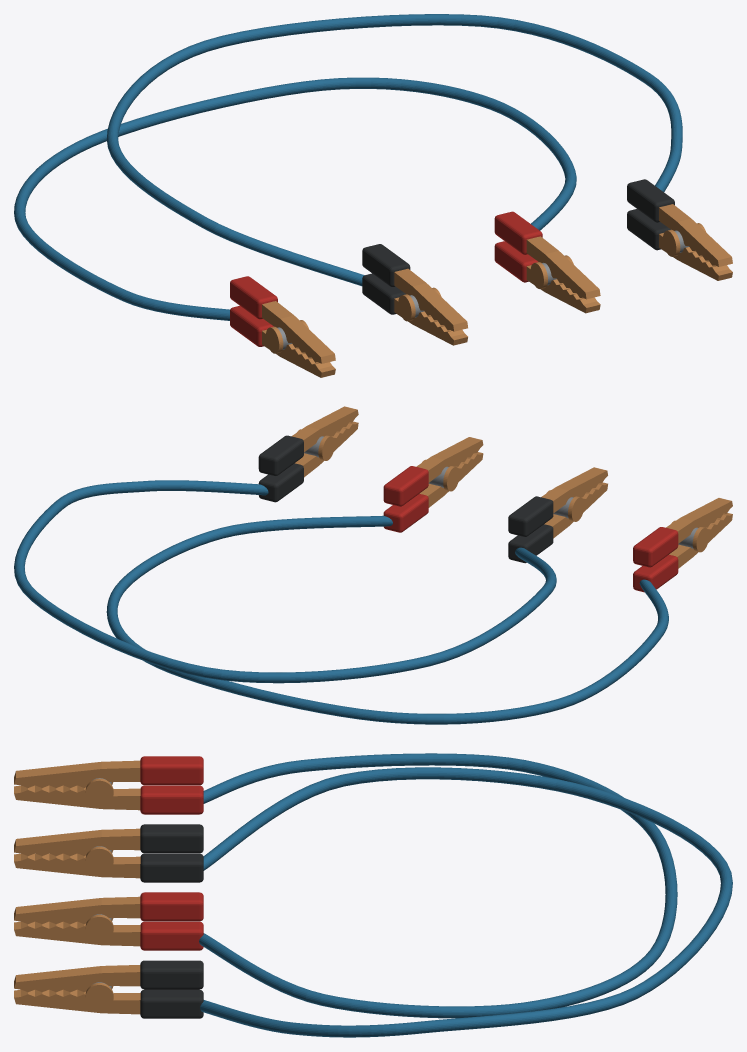
Rendered from full.glb.
The picture shows the model from 3 angles, top to bottom: view 1: azimuth 30°, elevation 25°; view 2: azimuth 150°, elevation 25°; view 3: azimuth 270°, elevation 25°; orthographic projection. The views are drawn at different scales.
Visible parts, largest first — view 1: Continuous insulated lead 1, Continuous insulated lead 0, Serrated clamp member 1 1, Serrated clamp member 2 1, Serrated clamp member 3 1, Serrated clamp member 0 1, Insulated handle sleeve 2 1, Insulated handle sleeve 1 1, Insulated handle sleeve 0 1, Insulated handle sleeve 3 1, Insulated handle sleeve 2 0, Insulated handle sleeve 1 0 (+6 smaller); view 2: Continuous insulated lead 1, Continuous insulated lead 0, Insulated handle sleeve 1 1, Insulated handle sleeve 2 1, Insulated handle sleeve 0 1, Insulated handle sleeve 3 1, Serrated clamp member 1 1, Serrated clamp member 2 1, Serrated clamp member 0 1, Serrated clamp member 3 1, Insulated handle sleeve 2 0, Insulated handle sleeve 3 0 (+6 smaller); view 3: Continuous insulated lead 1, Continuous insulated lead 0, Serrated clamp member 3 1, Serrated clamp member 2 1, Serrated clamp member 1 1, Serrated clamp member 0 1, Serrated clamp member 0 0, Serrated clamp member 1 0, Serrated clamp member 3 0, Serrated clamp member 2 0, Insulated handle sleeve 0 0, Insulated handle sleeve 2 1 (+10 smaller).
Part boxes in pixels (x1,y1,x2,y2): Continuous insulated lead 1: [106, 14, 682, 286]; Continuous insulated lead 0: [14, 77, 576, 320]; Serrated clamp member 1 1: [394, 268, 467, 331]; Serrated clamp member 2 1: [526, 236, 600, 299]; Serrated clamp member 3 1: [659, 204, 732, 266]; Serrated clamp member 0 1: [262, 301, 335, 363]; Insulated handle sleeve 2 1: [494, 211, 542, 254]; Insulated handle sleeve 1 1: [362, 244, 410, 286]; Insulated handle sleeve 0 1: [230, 276, 277, 319]; Insulated handle sleeve 3 1: [627, 179, 674, 222]; Insulated handle sleeve 2 0: [494, 241, 538, 282]; Insulated handle sleeve 1 0: [362, 273, 405, 314]; Continuous insulated lead 1: [14, 480, 556, 683]; Continuous insulated lead 0: [106, 515, 668, 724]; Insulated handle sleeve 1 1: [508, 496, 553, 536]; Insulated handle sleeve 2 1: [383, 466, 428, 506]; Insulated handle sleeve 0 1: [633, 527, 678, 567]; Insulated handle sleeve 3 1: [258, 435, 303, 475]; Serrated clamp member 1 1: [541, 467, 607, 513]; Serrated clamp member 2 1: [416, 437, 483, 482]; Serrated clamp member 0 1: [666, 498, 732, 543]; Serrated clamp member 3 1: [292, 406, 358, 452]; Insulated handle sleeve 2 0: [383, 493, 428, 532]; Insulated handle sleeve 3 0: [258, 463, 303, 502]; Continuous insulated lead 1: [200, 767, 732, 1037]; Continuous insulated lead 0: [199, 753, 677, 1018]; Serrated clamp member 3 1: [14, 965, 140, 992]; Serrated clamp member 2 1: [14, 896, 140, 924]; Serrated clamp member 1 1: [14, 828, 140, 855]; Serrated clamp member 0 1: [14, 760, 140, 787]; Serrated clamp member 0 0: [14, 785, 140, 810]; Serrated clamp member 1 0: [14, 853, 140, 878]; Serrated clamp member 3 0: [14, 989, 140, 1014]; Serrated clamp member 2 0: [14, 921, 140, 946]; Insulated handle sleeve 0 0: [140, 785, 203, 814]; Insulated handle sleeve 2 1: [140, 892, 203, 921].
Size of the model in its own units: 0.7284 by 0.0605 by 0.7143.
